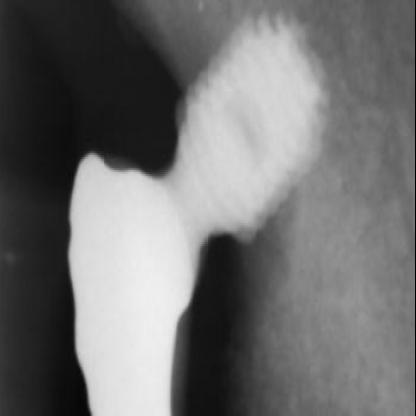Bicon: (175, 16, 347, 232)
